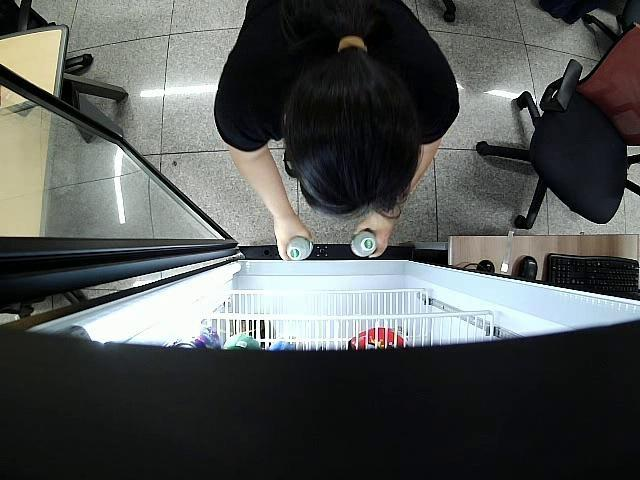18_trevi: (347, 231, 380, 260), (286, 236, 310, 263)
